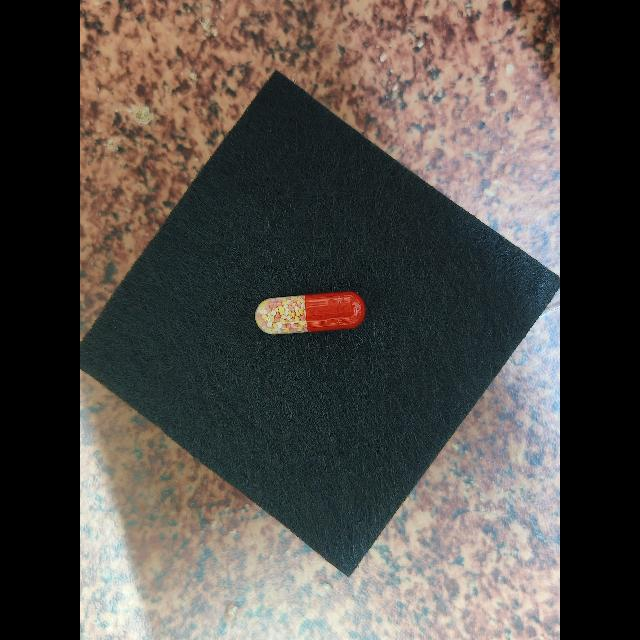Intact Capsule: (255, 291, 366, 335)
